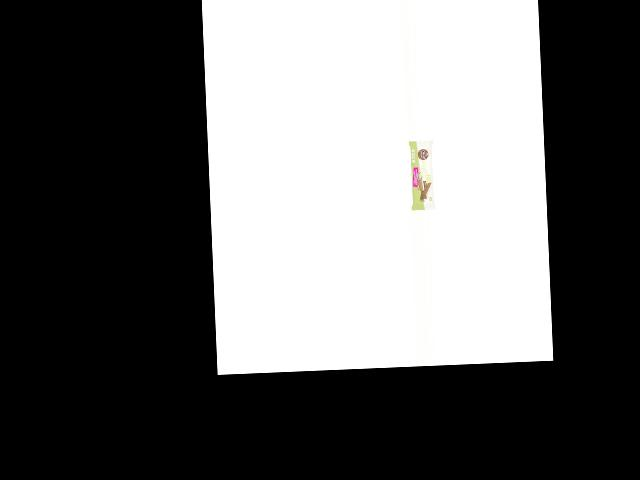chocolate: (405, 140, 437, 212)
